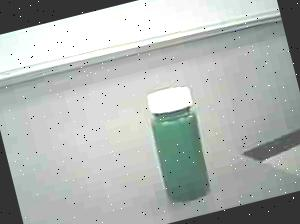Bottle C: (138, 78, 226, 215)
